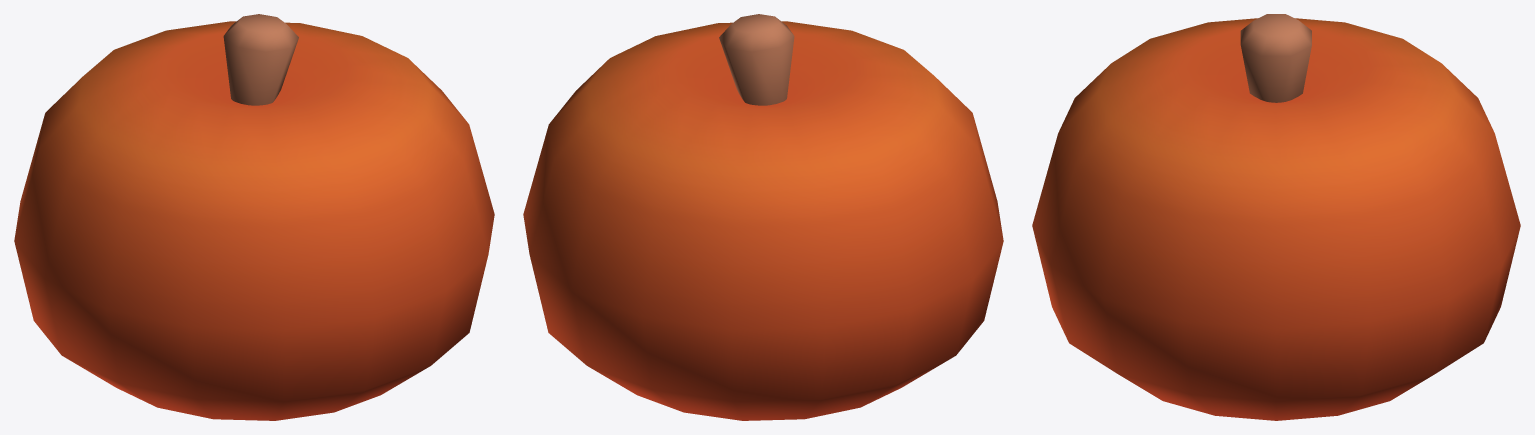
3 renders of one model, left to right at view 1: azimuth 30°, elevation 25°; view 2: azimuth 150°, elevation 25°; view 3: azimuth 270°, elevation 25°, orthographic.
Visible parts, largest first — view 1: apple; view 2: apple; view 3: apple.
Part boxes in pixels (x1=…): apple: x1=14, y1=14, x2=494, y2=420; apple: x1=523, y1=14, x2=1003, y2=420; apple: x1=1032, y1=14, x2=1520, y2=420.
Bounding box in the file's own units: 43.88 × 35.55 × 43.88.
1 material, 1 textured.
